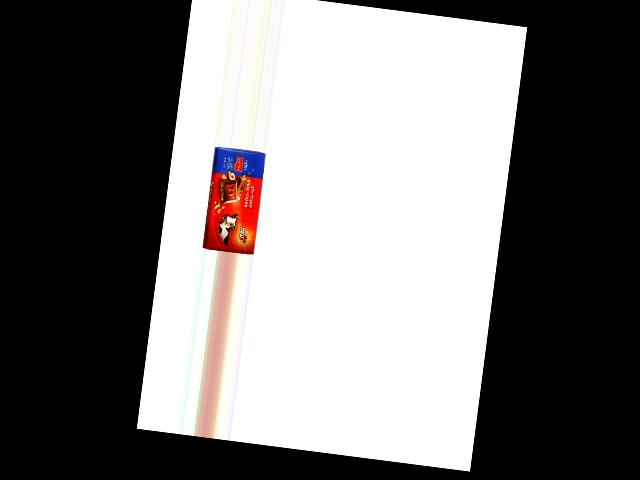chocolate: (197, 147, 265, 254)
